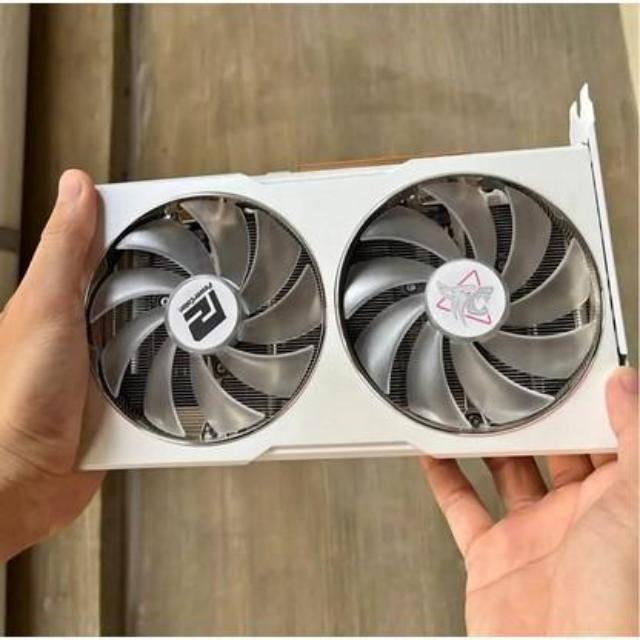GPU: (46, 127, 640, 496)
